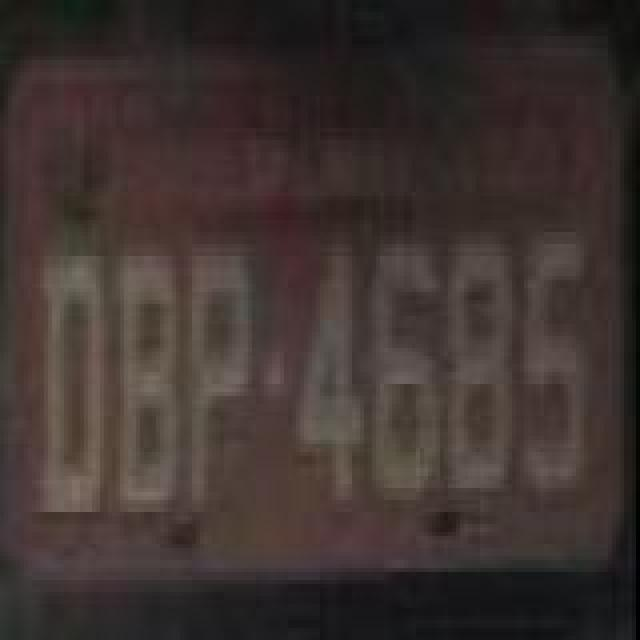4: (292, 248, 368, 504)
5: (518, 234, 590, 502)
6: (370, 244, 442, 500)
8: (442, 244, 514, 500)
B: (118, 242, 182, 510)
D: (44, 250, 112, 518)
P: (186, 242, 258, 510)
